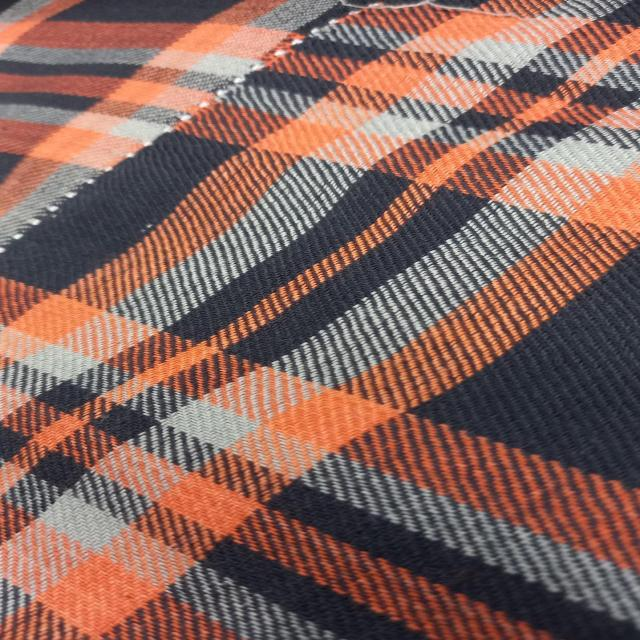gray stitch: (0, 0, 422, 265)
